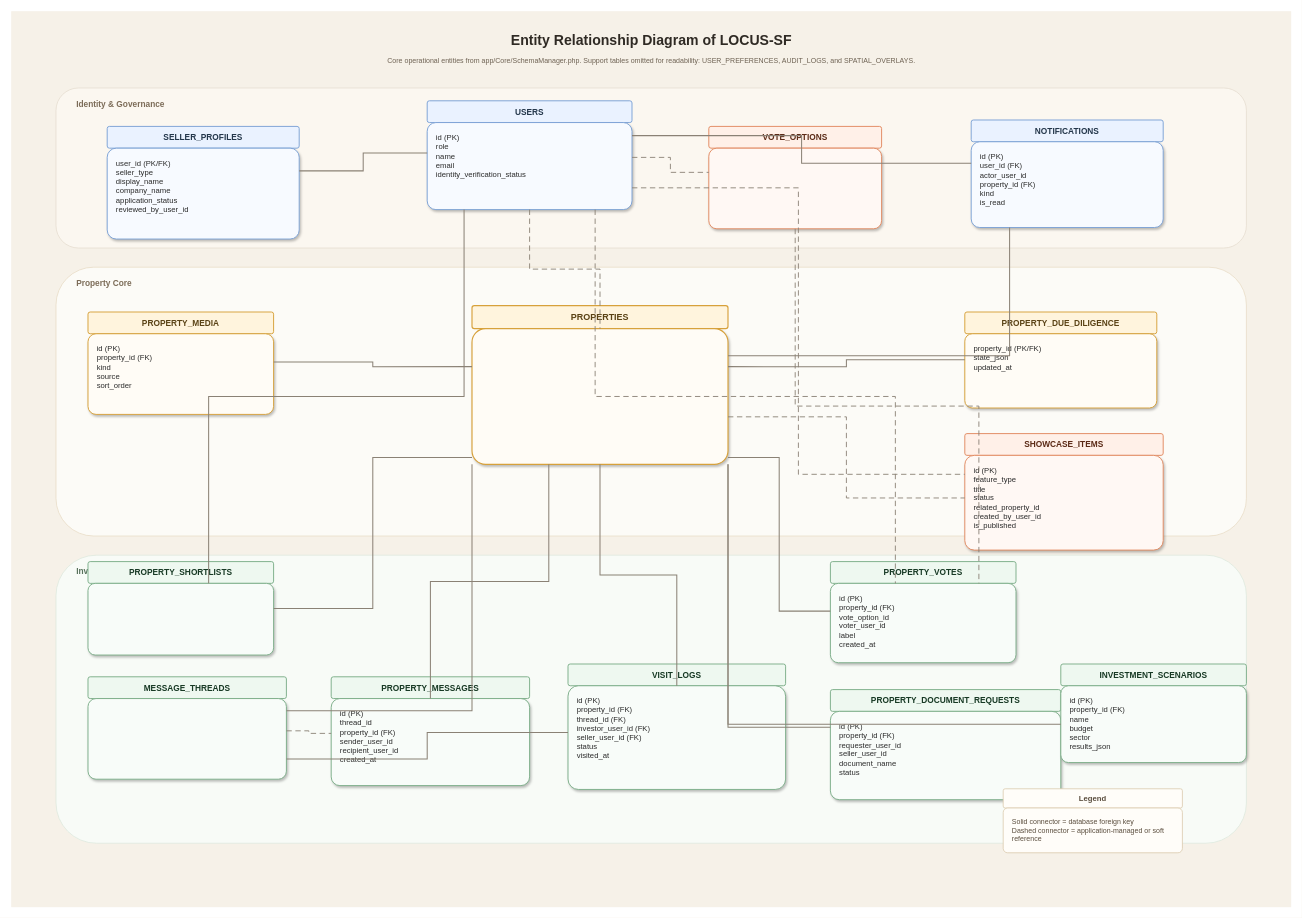
Image size: 1302x918. Some labels were removed from this diagram. The centre of each missing label's shape, as x and y in pixels:
"id (PK) investor_user_id (FK) property_id (FK) created_at" goes at (x=181, y=620).
"id (PK) name city area price status approval_state type seller_user_id score" goes at (x=600, y=397).
"id (PK) property_id (FK) investor_user_id seller_user_id subject last_message_at" goes at (x=187, y=739).
"id (PK) title slug is_active created_by_user_id" goes at (x=795, y=189).
